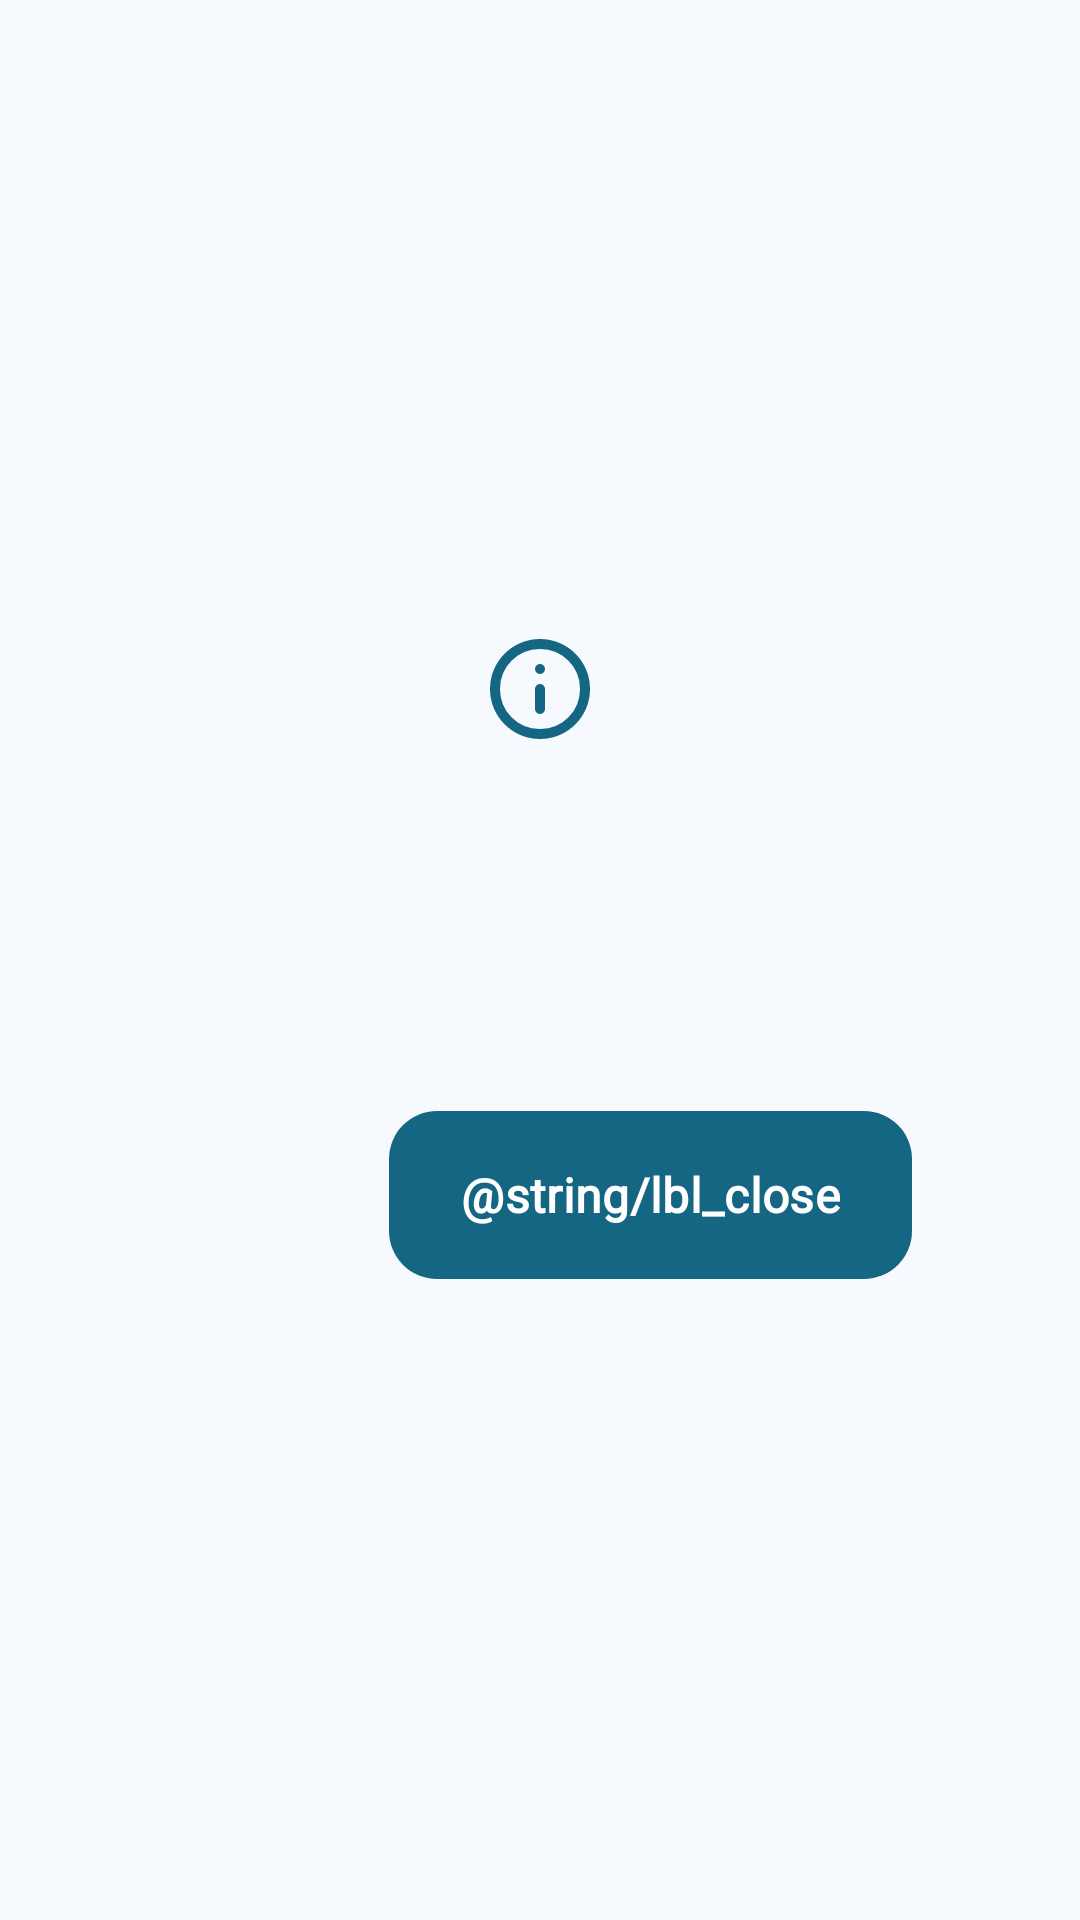

Screen size 1080×1920. Icon name, then its center in pixels as [x,y]:
info: [540,689]
